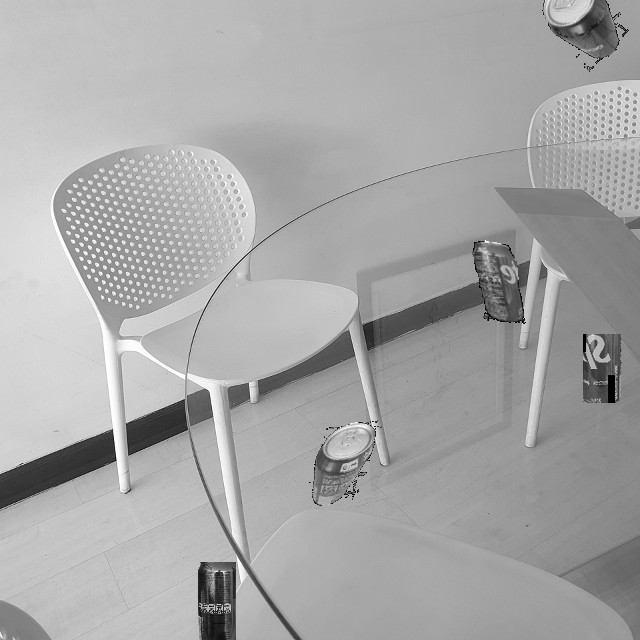schweppes: (536, 0, 637, 72), (198, 562, 236, 640)
sprite: (300, 419, 384, 508), (471, 235, 526, 330), (583, 334, 622, 403)
